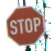stopsign: (6, 6, 45, 46)
